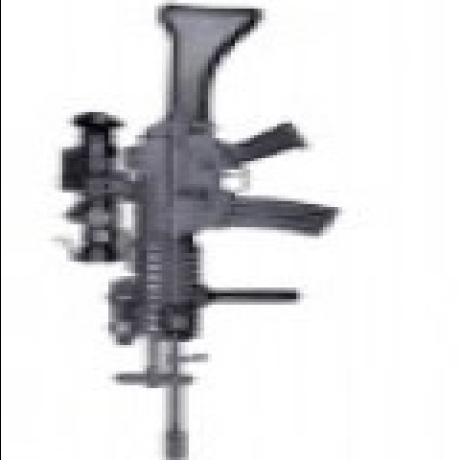weapon: (55, 2, 326, 460)
